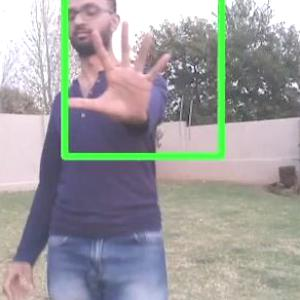follow_hand: (60, 12, 178, 130)
